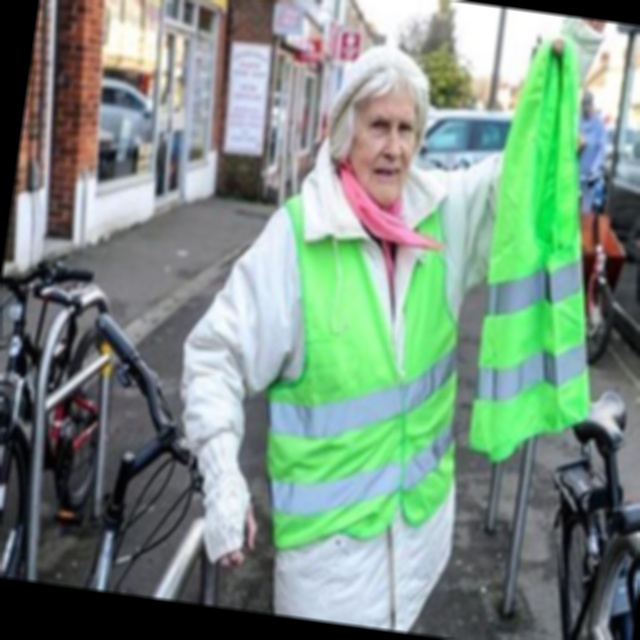Con_Chaleco: (239, 158, 495, 541)
